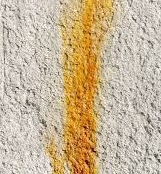Corrosion: (61, 1, 115, 174), (43, 140, 61, 174)
